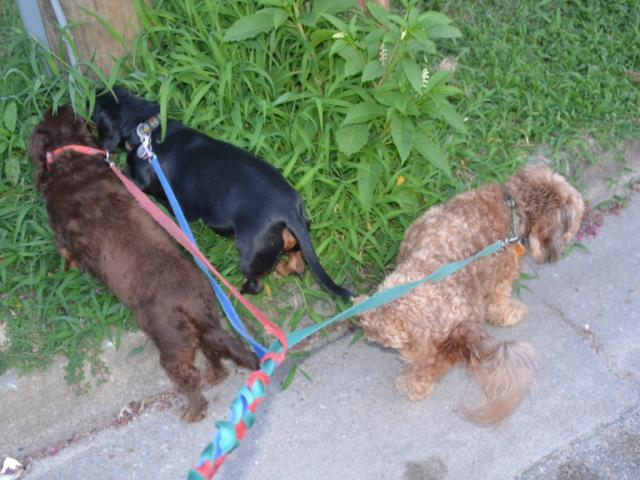Dog: (30, 101, 262, 416), (350, 163, 584, 427), (93, 80, 358, 305)
